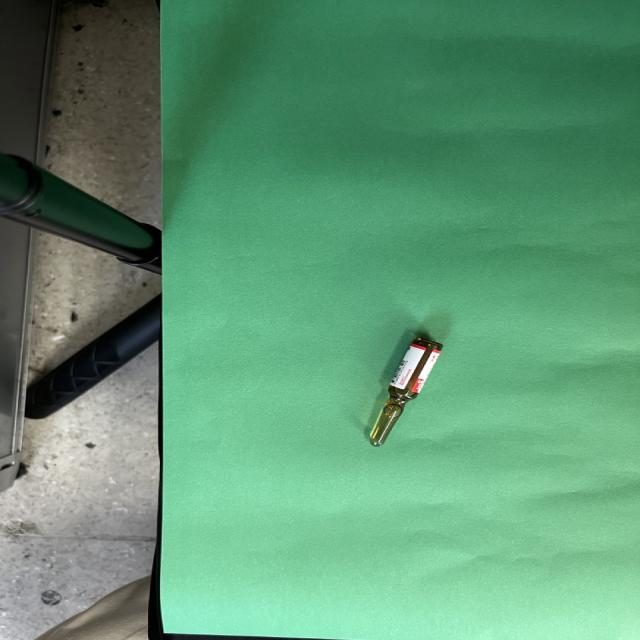Ampoules: (369, 336, 443, 446)
